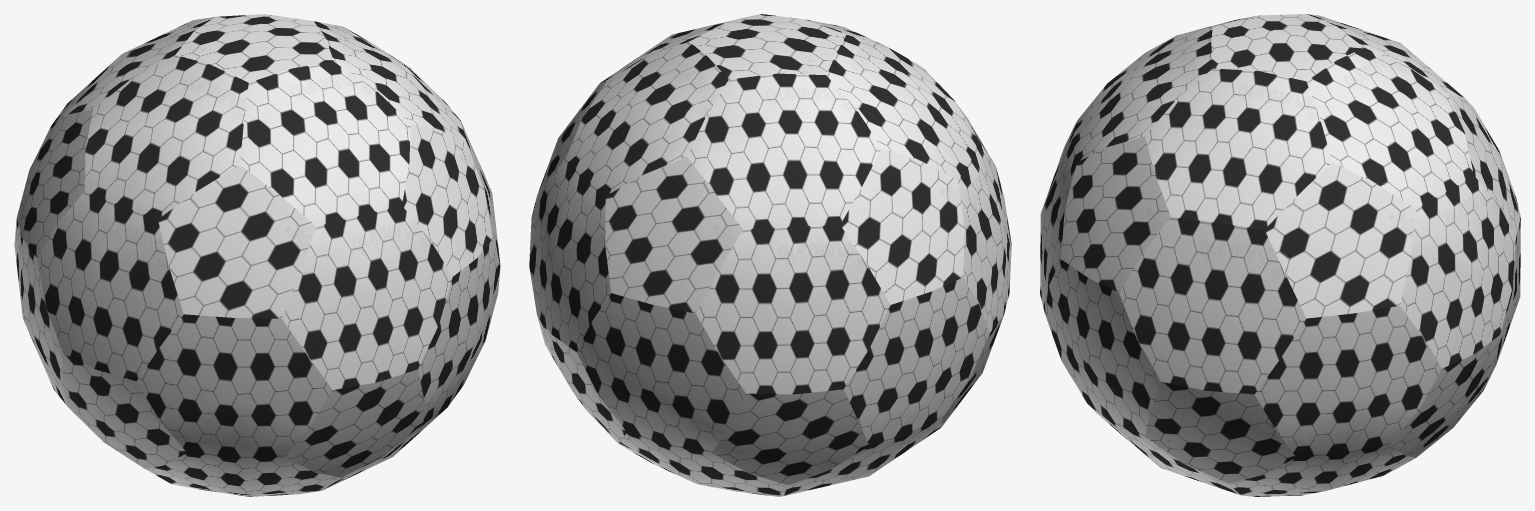
File: balon.obj
3 renders of one model, left to right at view 1: azimuth 30°, elevation 25°; view 2: azimuth 150°, elevation 25°; view 3: azimuth 270°, elevation 25°, orthographic.
Visible parts, largest first — view 1: body; view 2: body; view 3: body.
Boxes of the visible parts, x1,y1,x2,y2 form: body: (14, 14, 500, 496); body: (529, 14, 1011, 496); body: (1040, 14, 1520, 496).
Size of the model in its own units: 4.8 by 4.8 by 4.72.
Materials: 1 (1 with a texture image).
